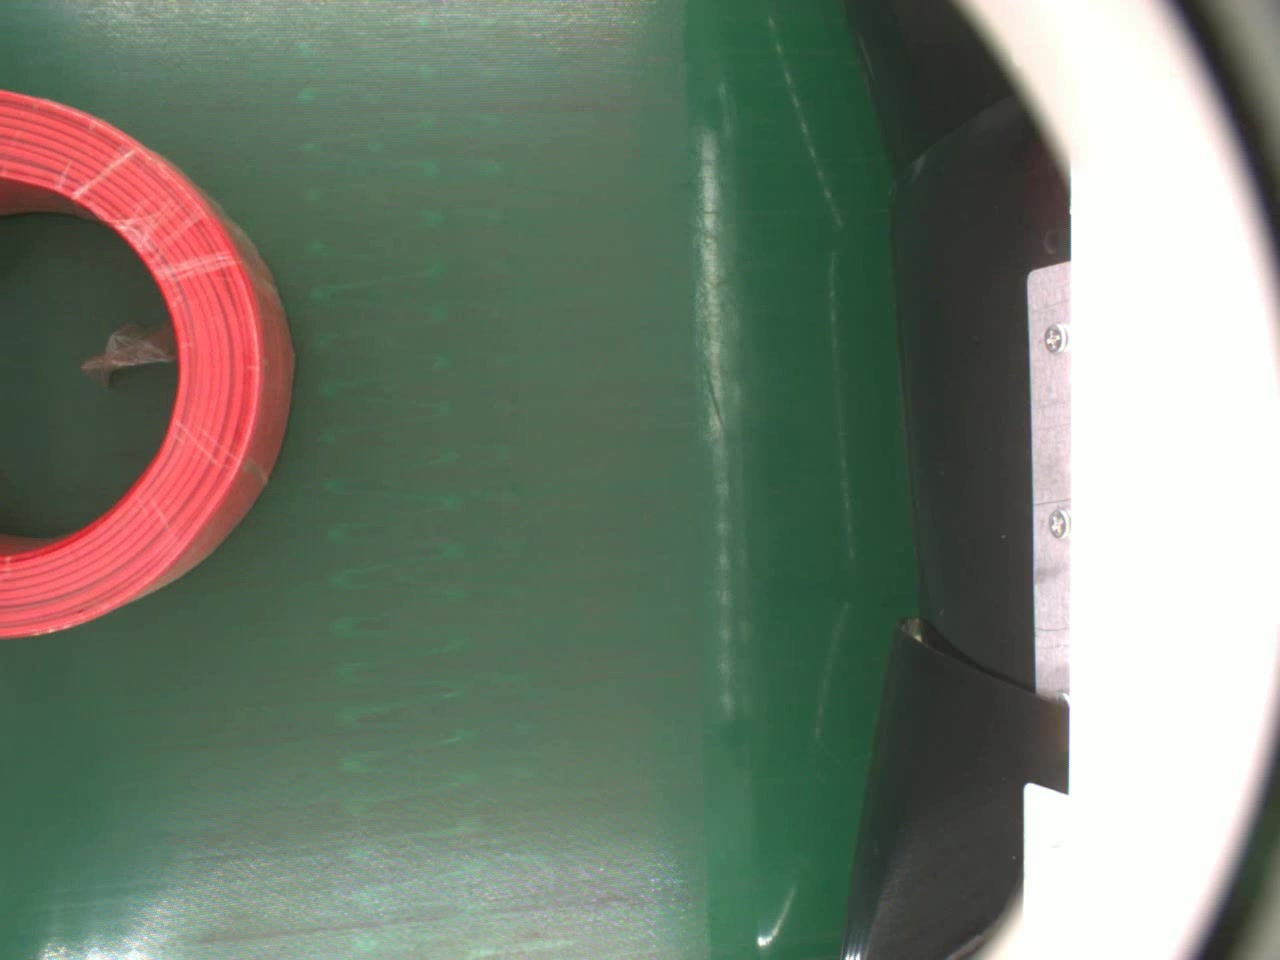red: (0, 87, 296, 635)
